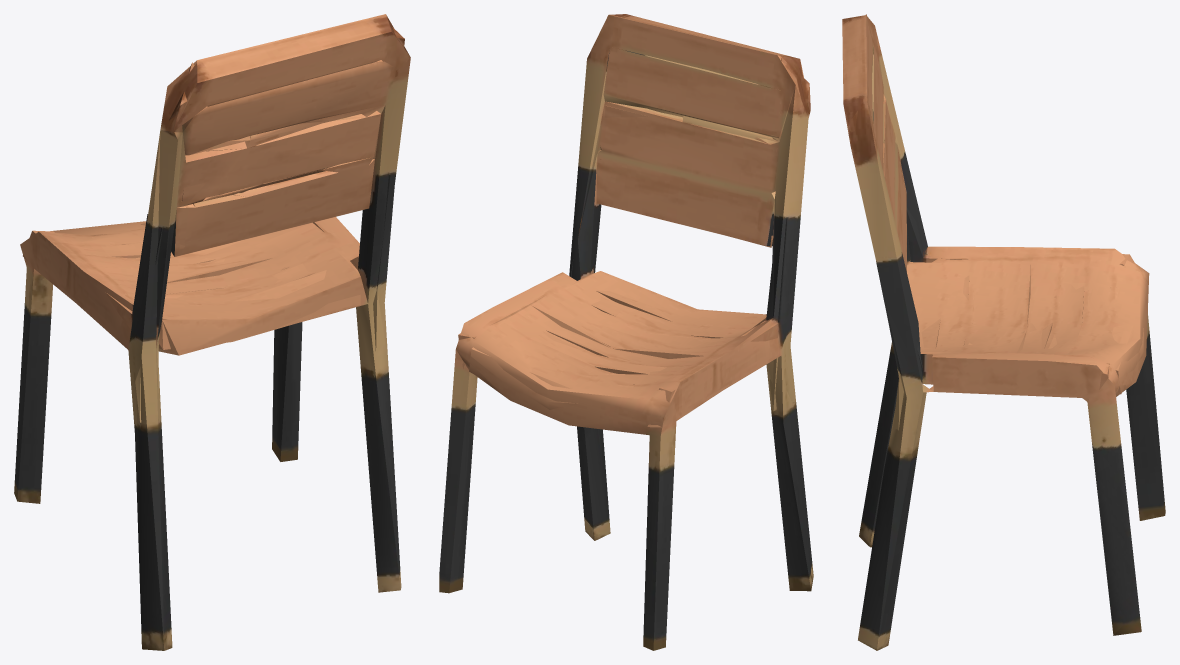
The model's file is seat_cafe-table_v2.glb.
The picture shows the model from 3 angles, left to right: view 1: azimuth 30°, elevation 25°; view 2: azimuth 150°, elevation 25°; view 3: azimuth 270°, elevation 25°; orthographic projection. The views are drawn at different scales.
Parts seen in each view (by area): view 1: body; view 2: body; view 3: body.
Part boxes in pixels (left/top/right/bottom): body: left=14, top=14, right=410, bottom=650; body: left=439, top=14, right=813, bottom=650; body: left=842, top=14, right=1165, bottom=650.
Size of the model in its own units: 0.4648 by 0.9094 by 0.4889.
Materials: 1 (1 with a texture image).
